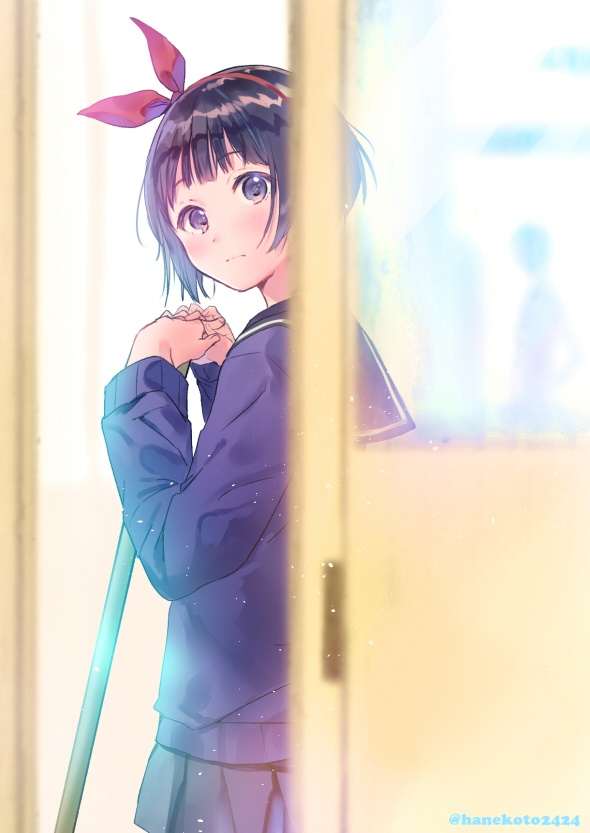纸片人正脸: (141, 59, 298, 303)
